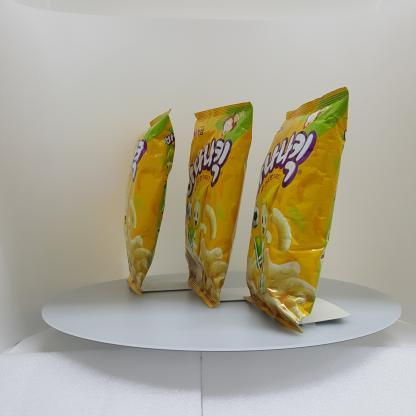Plastic Packaging: (242, 86, 350, 332), (182, 102, 252, 308), (115, 107, 176, 299)
